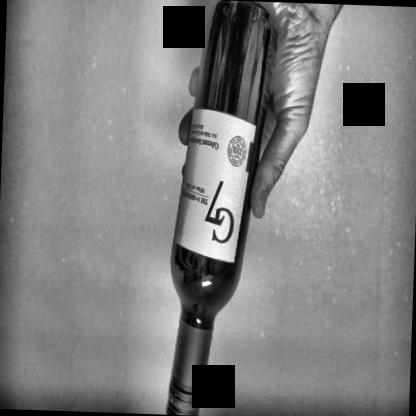G7: (172, 105, 259, 267)
